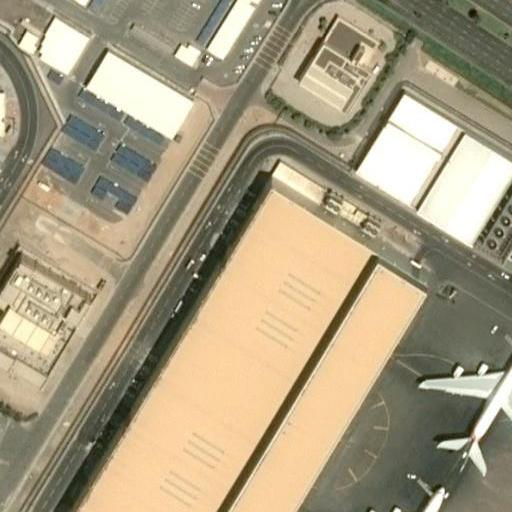Aircraft: (413, 355, 511, 474), (333, 484, 464, 512)
